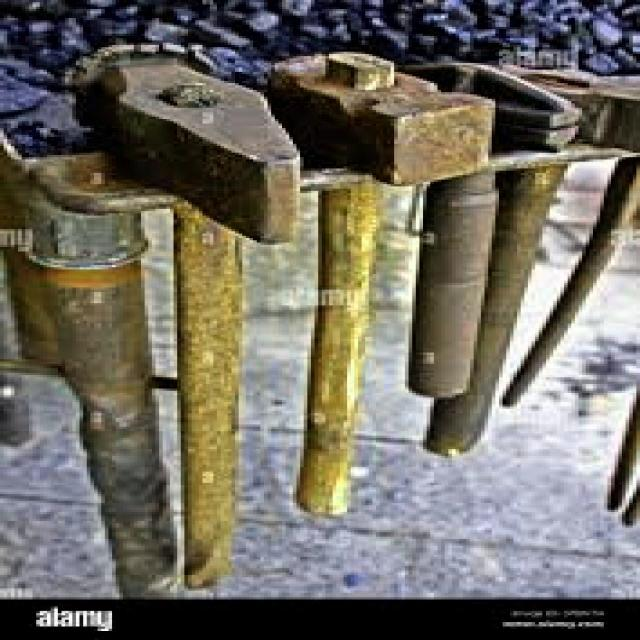hammer: (266, 37, 497, 563), (67, 45, 266, 591)
